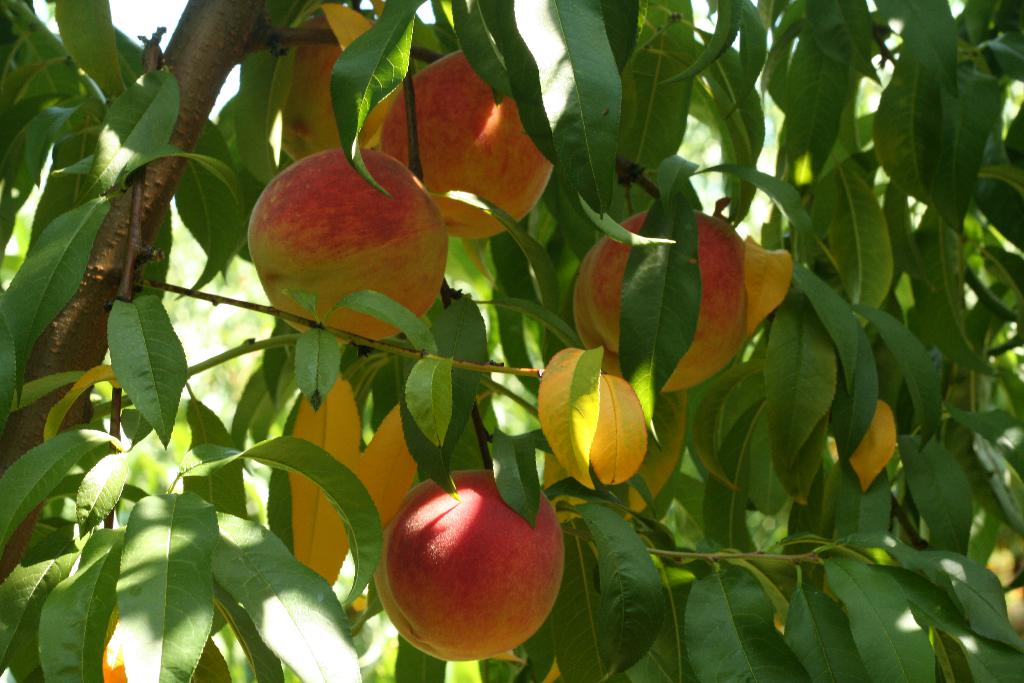Apple: (243, 145, 444, 351), (371, 476, 565, 673), (382, 44, 557, 240), (572, 211, 748, 391), (272, 5, 403, 162)
